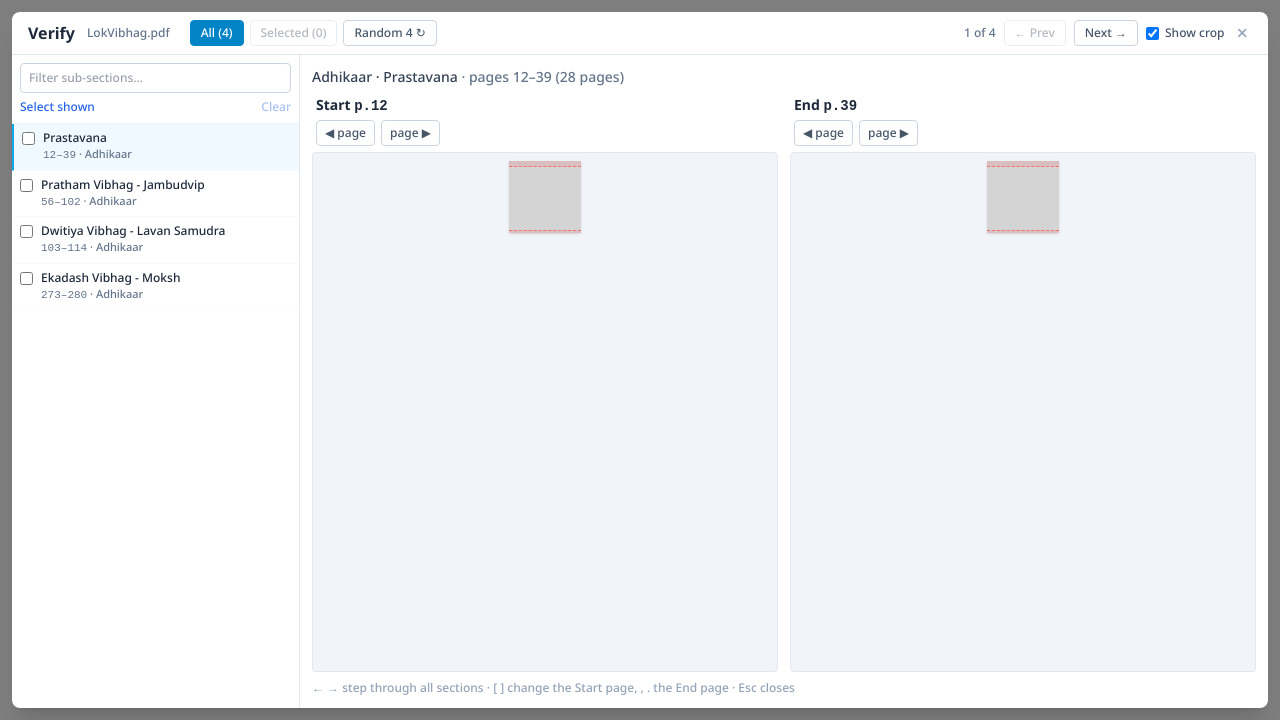
reviewing neighbouring pages, and SET › each pane steps to the neighbouring page and can reset to the config page
Click the button with aria-label "Start next page" at (410, 133), box top-left (381, 120), bottom-right (440, 146)
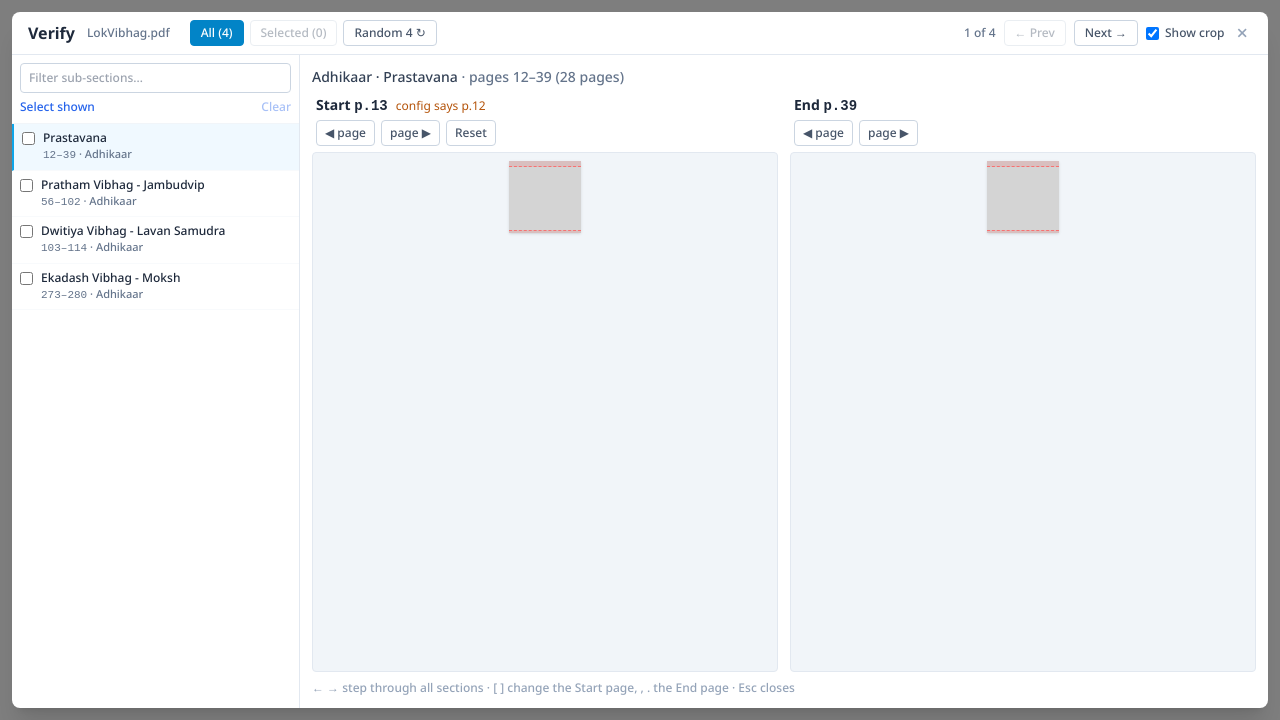
Expected: the text with test id "moved-start" reads "config says p.12", top-left (396, 97), bottom-right (486, 114)
Click the button with aria-label "End previous page" at (824, 133), box top-left (794, 120), bottom-right (853, 146)
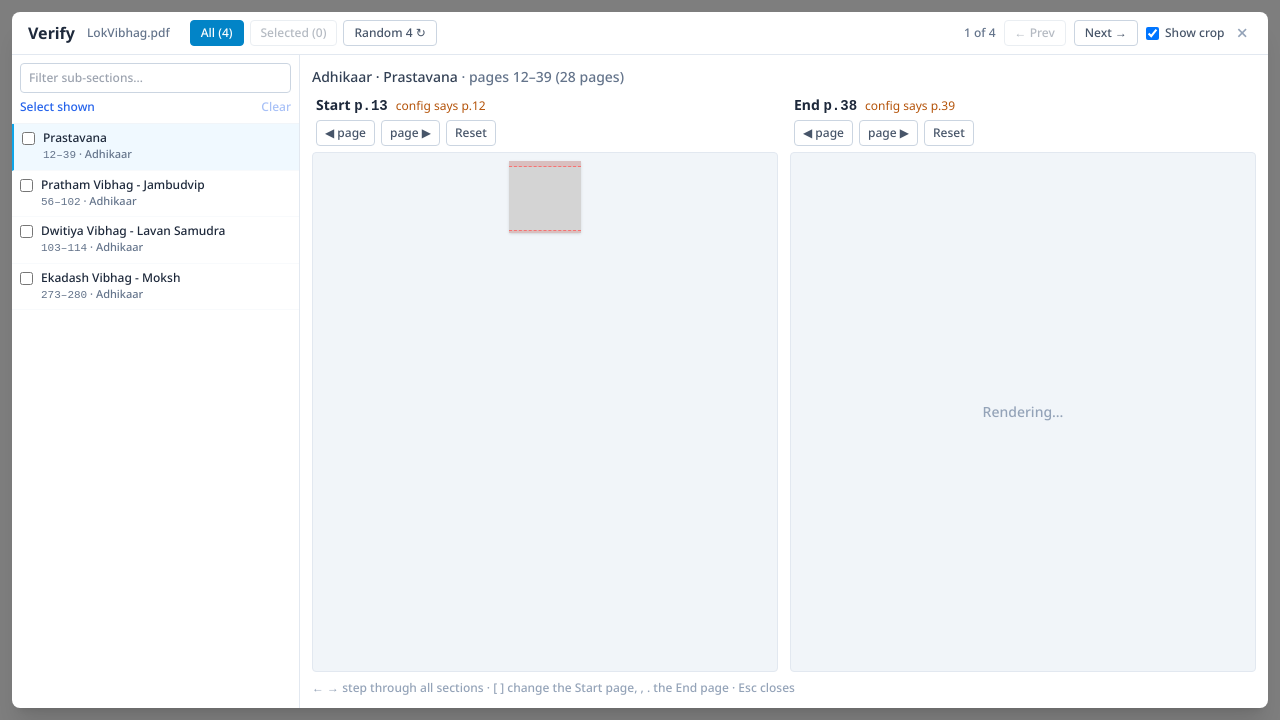
Click the button with aria-label "End previous page" at (824, 133), box top-left (794, 120), bottom-right (853, 146)
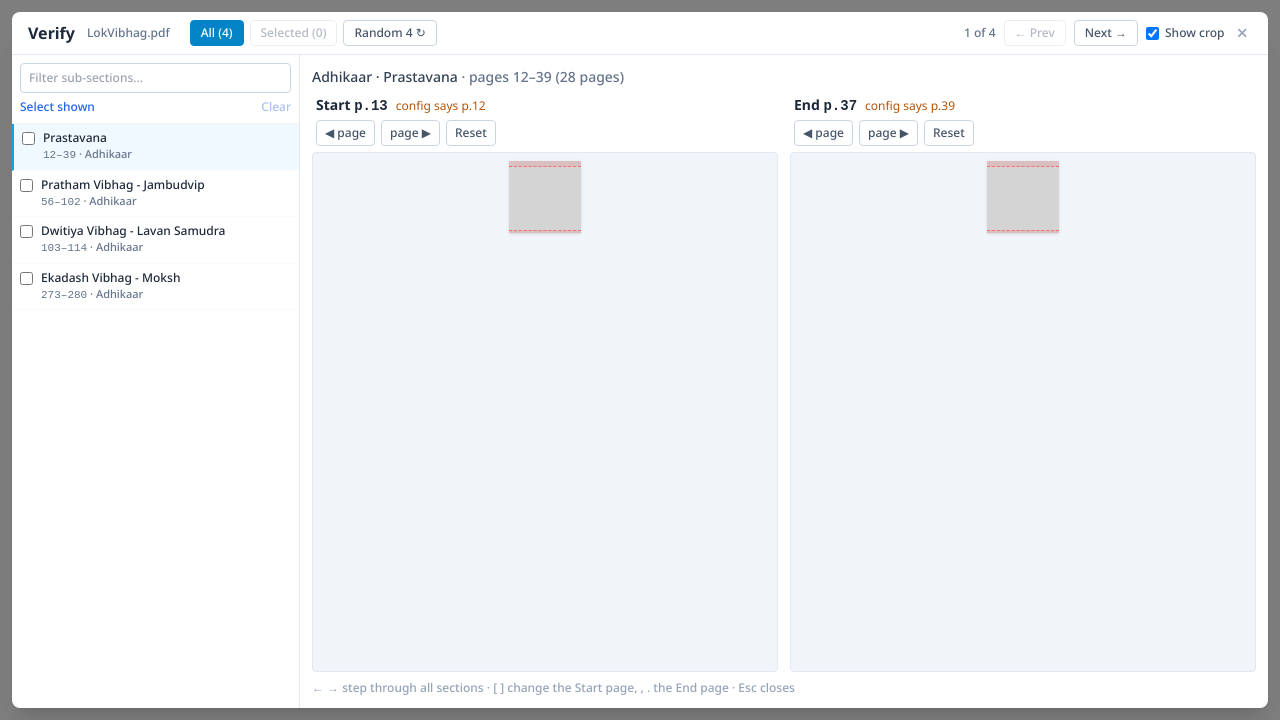
Click the button with aria-label "Start previous page" at (346, 133), box top-left (316, 120), bottom-right (375, 146)
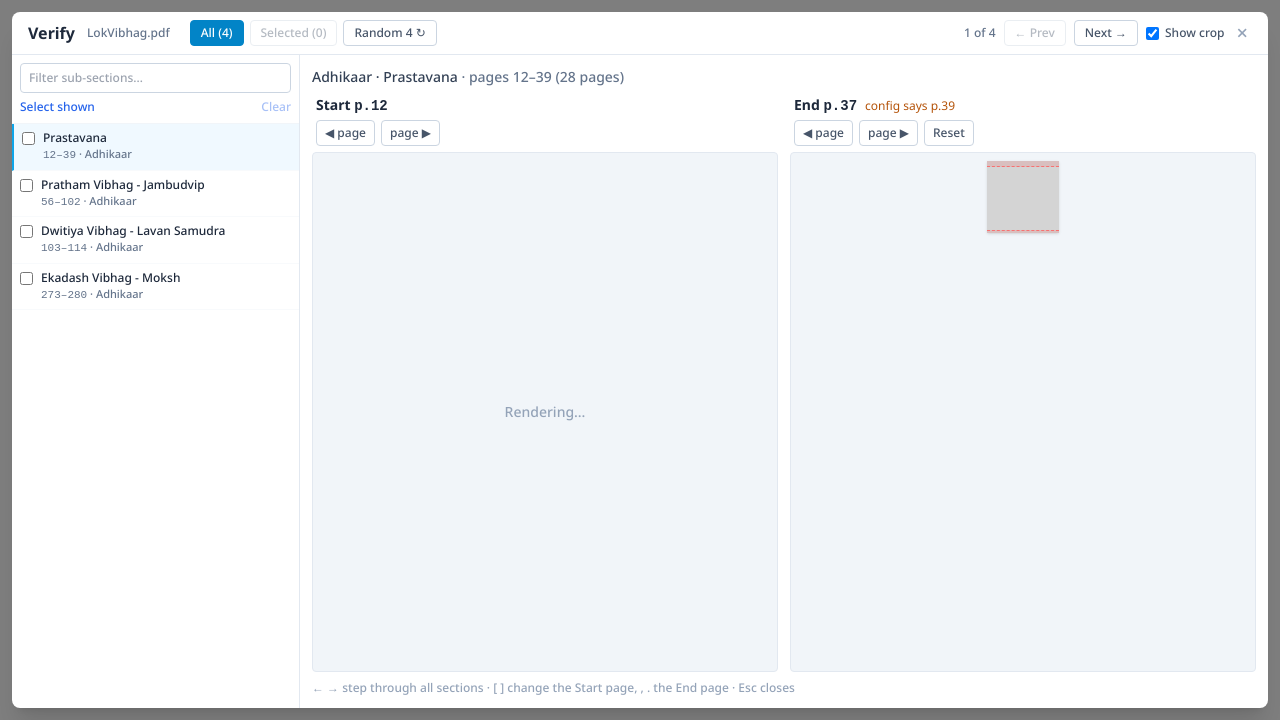
Click the button with aria-label "Start previous page" at (346, 133), box top-left (316, 120), bottom-right (375, 146)
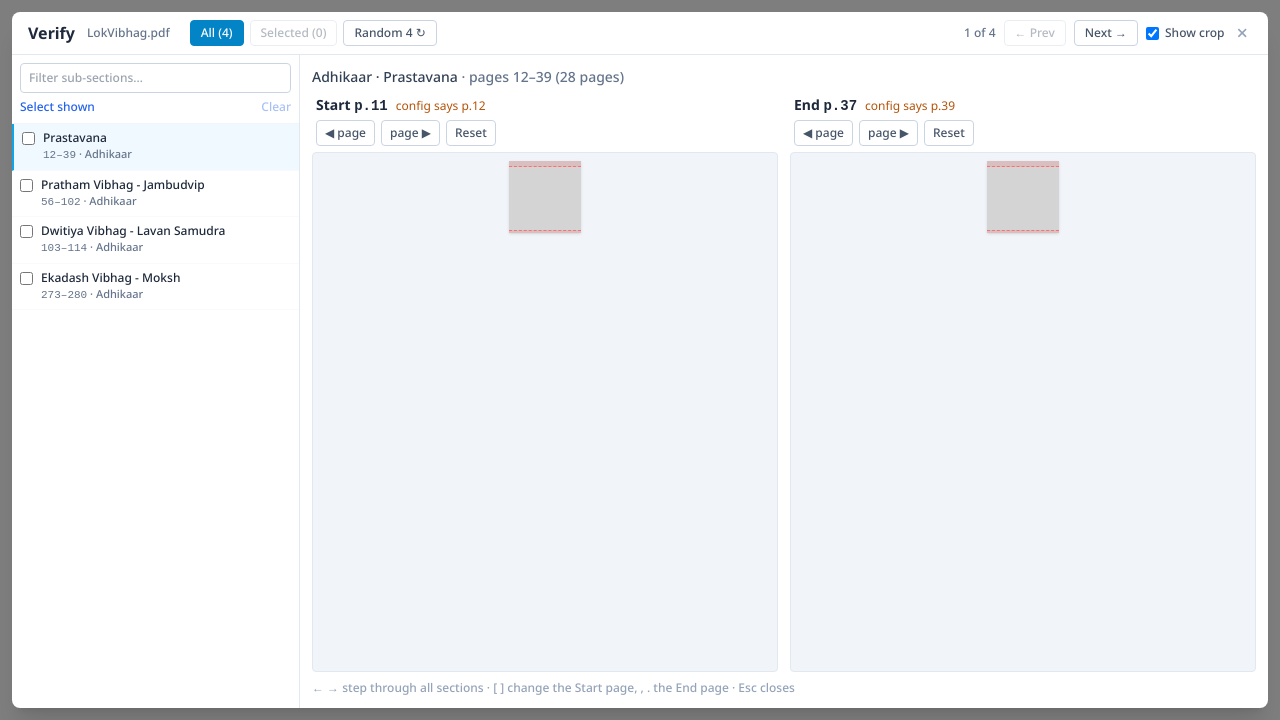
Click the button "Reset" below "p.11" at (471, 133), box top-left (446, 120), bottom-right (496, 146)
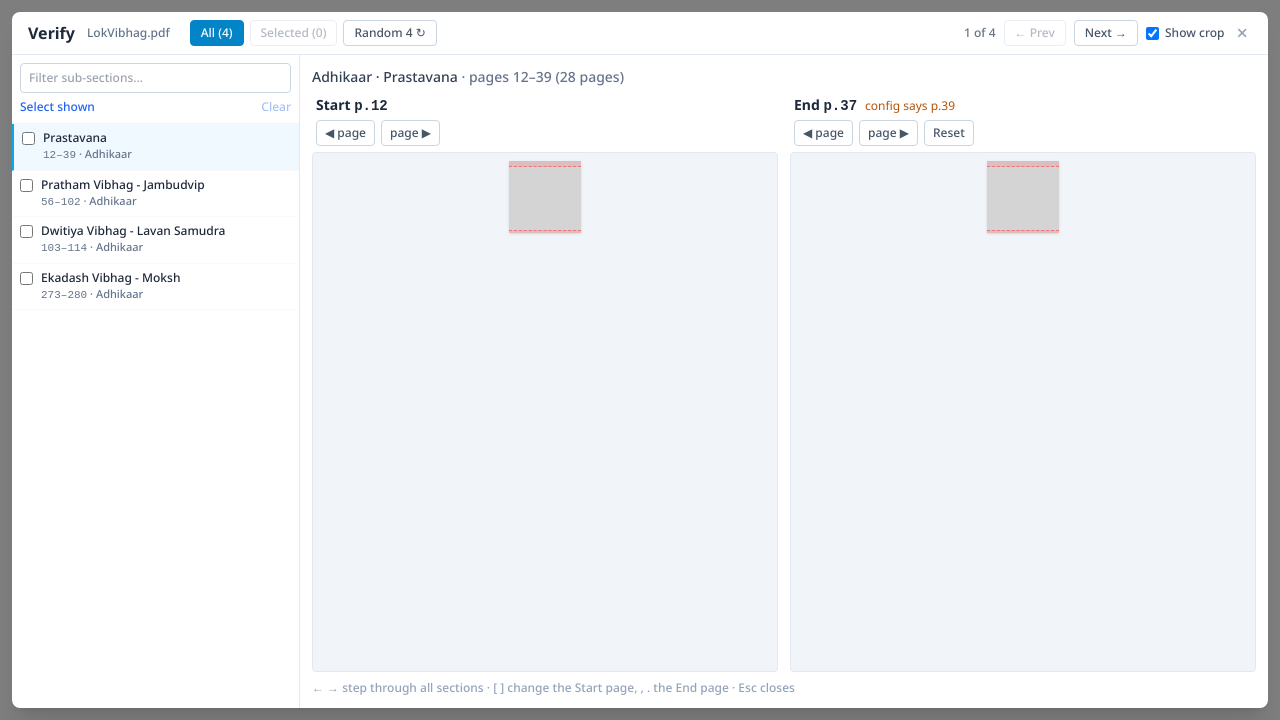
Expected: the text with test id "moved-start" is gone
